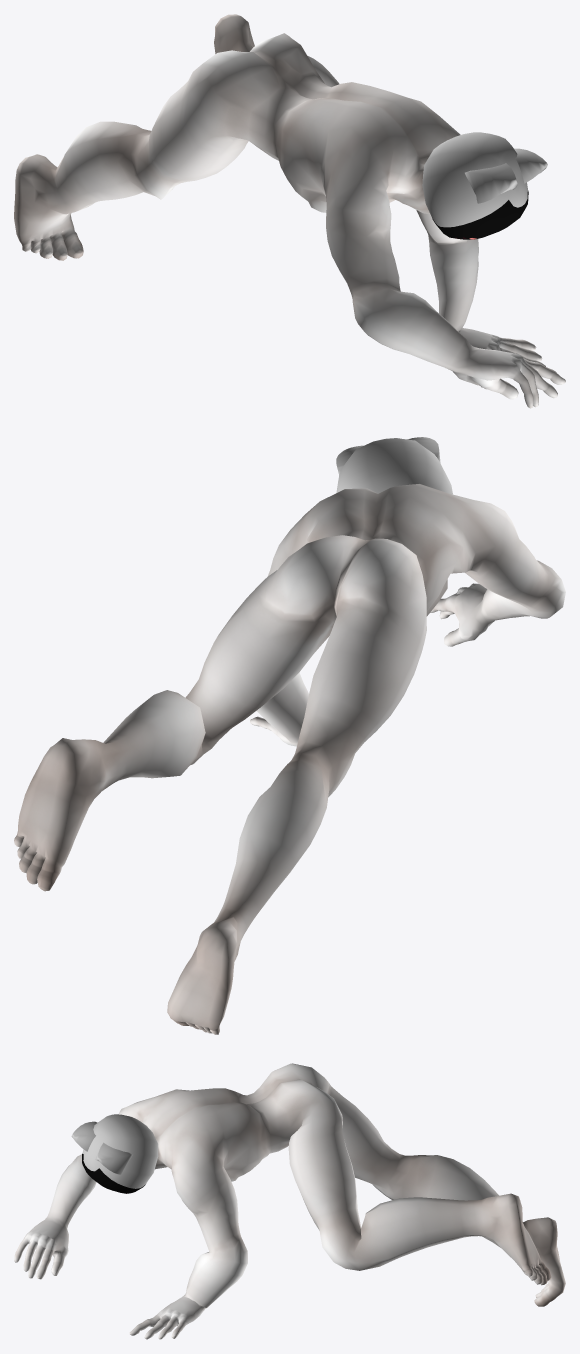
3 renders of one model, top to bottom at view 1: azimuth 30°, elevation 25°; view 2: azimuth 150°, elevation 25°; view 3: azimuth 270°, elevation 25°, orthographic. The views are drawn at different scales.
Visible parts, largest first — view 1: Muscle_Body, Cat_Head, ______?001; view 2: Muscle_Body, Cat_Head; view 3: Muscle_Body, Cat_Head, ______?001.
Boxes of the visible parts, bbox=[...] form: Muscle_Body: bbox=[14, 14, 565, 408]; Cat_Head: bbox=[422, 132, 547, 227]; ______?001: bbox=[432, 191, 528, 239]; Muscle_Body: bbox=[14, 484, 565, 1034]; Cat_Head: bbox=[336, 437, 452, 494]; Muscle_Body: bbox=[14, 1063, 565, 1339]; Cat_Head: bbox=[71, 1114, 158, 1188]; ______?001: bbox=[82, 1153, 145, 1193].
Bounding box in the file's own units: 10.98 × 13.57 × 28.66.
